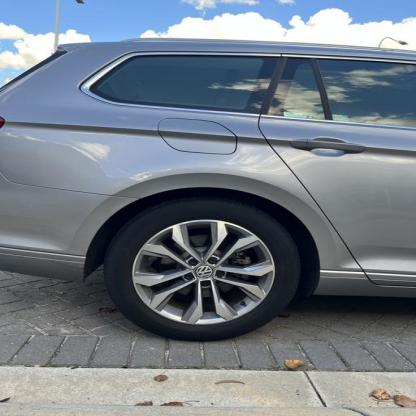Tire: (103, 198, 302, 342)
